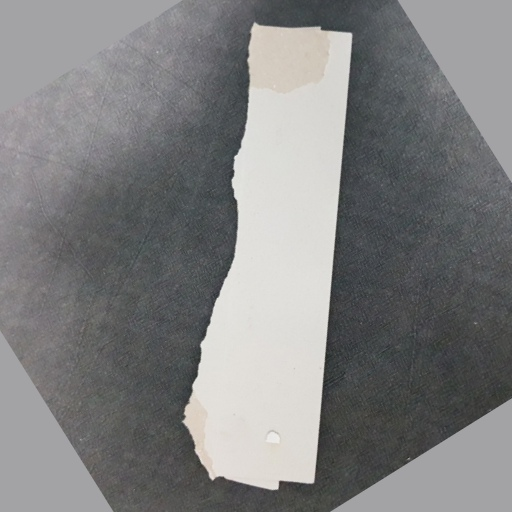Paper_2: (199, 16, 359, 497)
